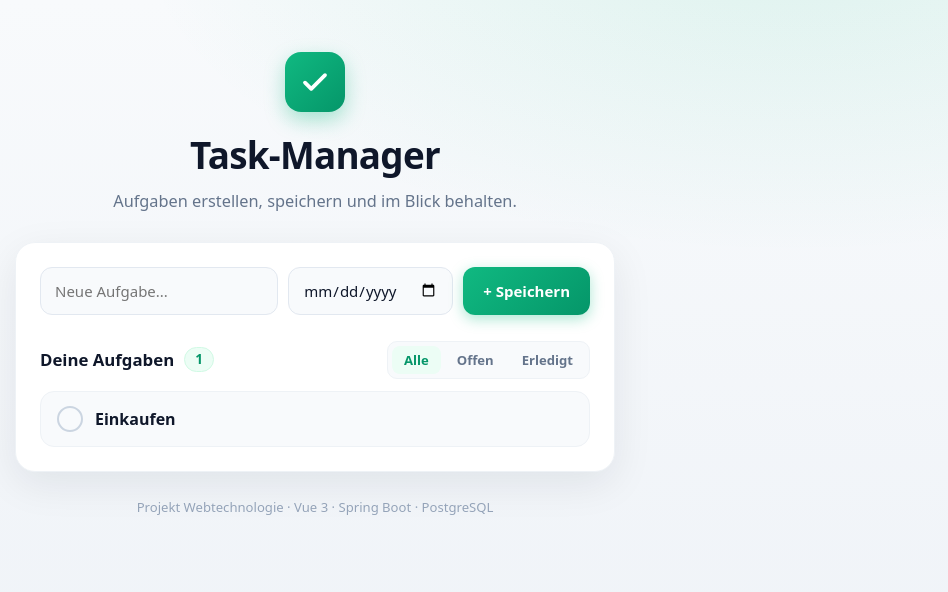
Test: TaskList › zeigt beim Klick auf eine Aufgabe die Aktionen an
Expected: the text "Entfernen" is not shown
Click the list item with class "task-item": click(315, 419) [40,391,590,447]
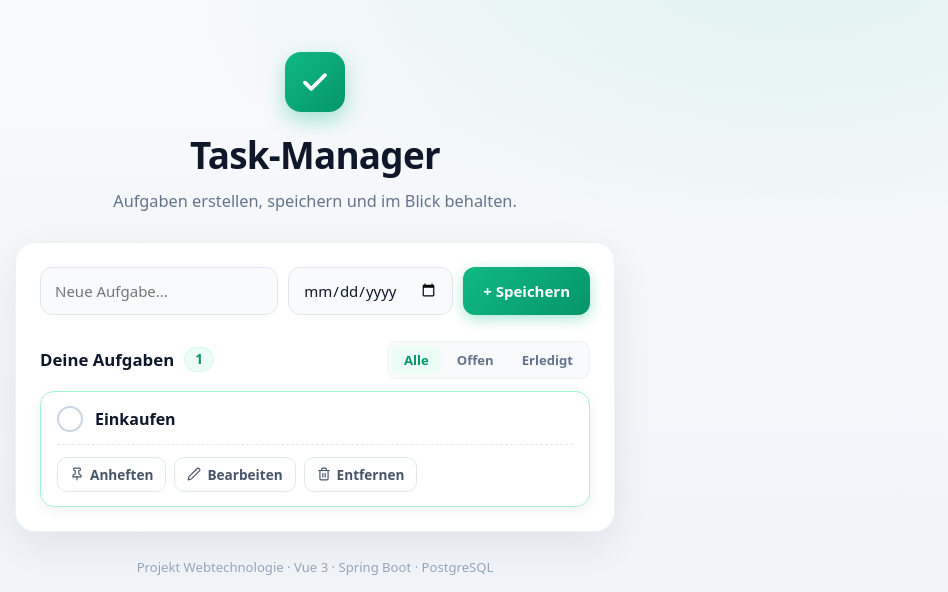
Expected: the text "Anheften" is shown, [57,457,166,492]
Expected: the text "Entfernen" is shown, [304,457,417,492]
